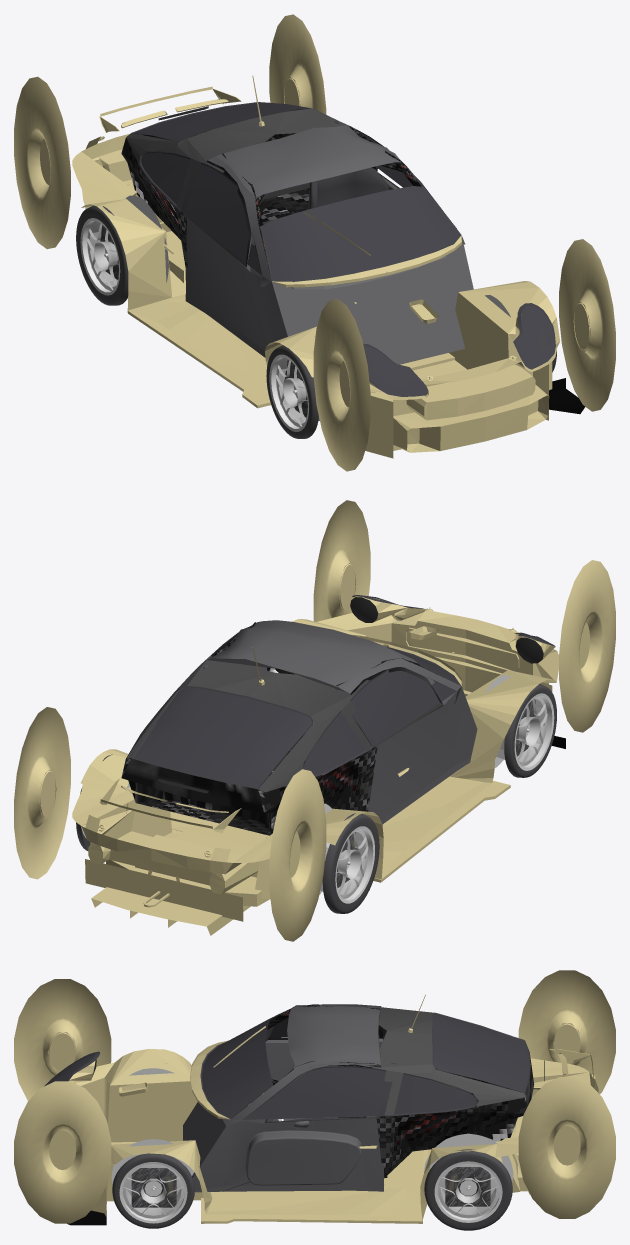
File: 2007-porsche-996-gt300-yunker-power-taisan.glb
3 renders of one model, top to bottom at view 1: azimuth 30°, elevation 25°; view 2: azimuth 150°, elevation 25°; view 3: azimuth 270°, elevation 25°, orthographic. The views are drawn at different scales.
Parts seen in each view (by area): view 1: WC_TEAM_BODY1_FL.001, GT3RS_INTERIOR_3_FL.001, WC_TEAM_BODY1_PA.001, WC_TEAM_WINDOWS_GL_A8.001, WC_TEAM_BODY2.001, WC_TEAM_WINDOWS_PL_A8.001, YKPOR300_WHEEL_STYLE3_TY.001, RIM_BLUR.001, YKPOR300_WHEEL_STYLE3_FL.001, YKPOR300_WHEEL_STYLE3_PA.001, SEAT--REC-LP.001, YKPOR300_WHEEL_STYLE3_FL_A8.001 (+2 smaller); view 2: WC_TEAM_BODY1_FL.001, WC_TEAM_BODY1_PA.001, WC_TEAM_WINDOWS_GL_A8.001, GT3RS_INTERIOR_3_FL.001, WC_TEAM_BODY2.001, YKPOR300_WHEEL_STYLE3_TY.001, RIM_BLUR.001, YKPOR300_WHEEL_STYLE3_FL.001, YKPOR300_WHEEL_STYLE3_PA.001, HGLOW.001, YKPOR300_WHEEL_STYLE3_FL_A8.001; view 3: WC_TEAM_BODY1_PA.001, WC_TEAM_BODY1_FL.001, GT3RS_INTERIOR_3_FL.001, WC_TEAM_WINDOWS_GL_A8.001, WC_TEAM_BODY2.001, RIM_BLUR.001, YKPOR300_WHEEL_STYLE3_TY.001, YKPOR300_WHEEL_STYLE3_FL.001, YKPOR300_WHEEL_STYLE3_PA.001, 04DISK.001, WC_CPIT_02C.001, WC_TEAM_WINDOWS_PL_A8.001 (+2 smaller).
Boxes of the visible parts, x1,y1,x2,y2 form: WC_TEAM_BODY1_FL.001: [72, 75, 560, 458]; GT3RS_INTERIOR_3_FL.001: [185, 125, 473, 364]; WC_TEAM_BODY1_PA.001: [14, 14, 615, 471]; WC_TEAM_WINDOWS_GL_A8.001: [132, 102, 555, 396]; WC_TEAM_BODY2.001: [121, 108, 377, 280]; WC_TEAM_WINDOWS_PL_A8.001: [363, 306, 554, 395]; YKPOR300_WHEEL_STYLE3_TY.001: [76, 205, 556, 438]; RIM_BLUR.001: [87, 221, 307, 426]; YKPOR300_WHEEL_STYLE3_FL.001: [89, 195, 510, 423]; YKPOR300_WHEEL_STYLE3_PA.001: [80, 218, 308, 431]; SEAT--REC-LP.001: [308, 167, 388, 209]; YKPOR300_WHEEL_STYLE3_FL_A8.001: [87, 224, 307, 426]; WC_TEAM_BODY1_FL.001: [72, 596, 558, 935]; WC_TEAM_BODY1_PA.001: [14, 500, 615, 941]; WC_TEAM_WINDOWS_GL_A8.001: [131, 632, 460, 789]; GT3RS_INTERIOR_3_FL.001: [206, 620, 477, 824]; WC_TEAM_BODY2.001: [121, 656, 377, 835]; YKPOR300_WHEEL_STYLE3_TY.001: [76, 684, 556, 913]; RIM_BLUR.001: [336, 696, 547, 898]; YKPOR300_WHEEL_STYLE3_FL.001: [127, 675, 544, 895]; YKPOR300_WHEEL_STYLE3_PA.001: [81, 693, 554, 903]; HGLOW.001: [350, 597, 543, 663]; YKPOR300_WHEEL_STYLE3_FL_A8.001: [337, 699, 547, 897]; WC_TEAM_BODY1_PA.001: [14, 970, 615, 1223]; WC_TEAM_BODY1_FL.001: [69, 994, 598, 1223]; GT3RS_INTERIOR_3_FL.001: [183, 1004, 383, 1192]; WC_TEAM_WINDOWS_GL_A8.001: [44, 1004, 530, 1119]; WC_TEAM_BODY2.001: [372, 1007, 534, 1178]; RIM_BLUR.001: [123, 1163, 498, 1217]; YKPOR300_WHEEL_STYLE3_TY.001: [112, 1149, 512, 1230]; YKPOR300_WHEEL_STYLE3_FL.001: [111, 1068, 513, 1215]; YKPOR300_WHEEL_STYLE3_PA.001: [119, 1161, 502, 1223]; 04DISK.001: [131, 1167, 490, 1207]; WC_CPIT_02C.001: [222, 1005, 380, 1191]; WC_TEAM_WINDOWS_PL_A8.001: [45, 1053, 95, 1085].
Bounding box in the file's own units: 1.91 × 1.5 × 4.43.
29 materials, 8 textured.
